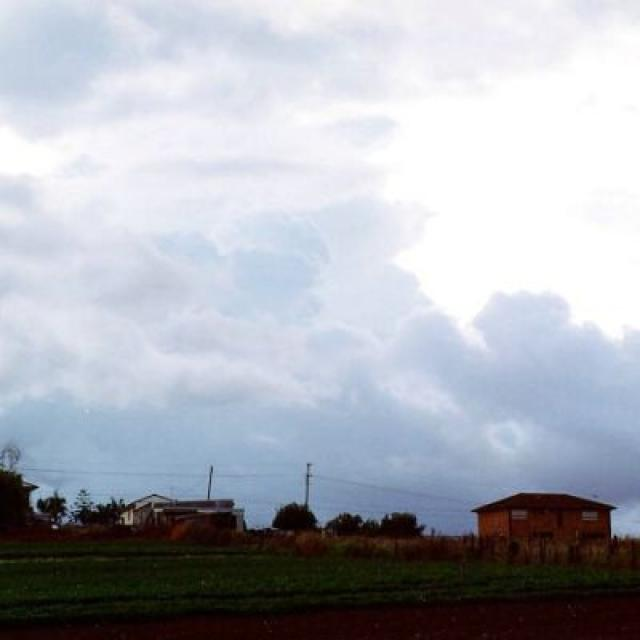Sc: (2, 38, 640, 433)
